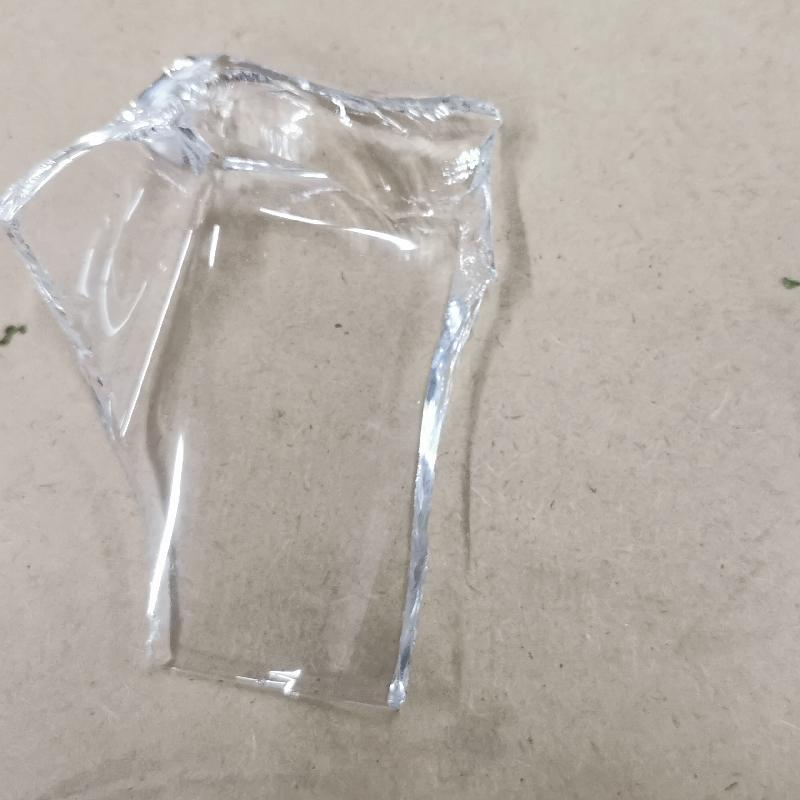glass: (3, 50, 503, 714)
